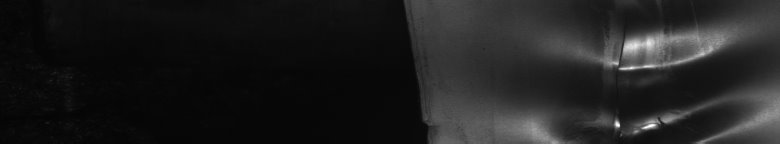ke: (580, 24, 761, 136)
